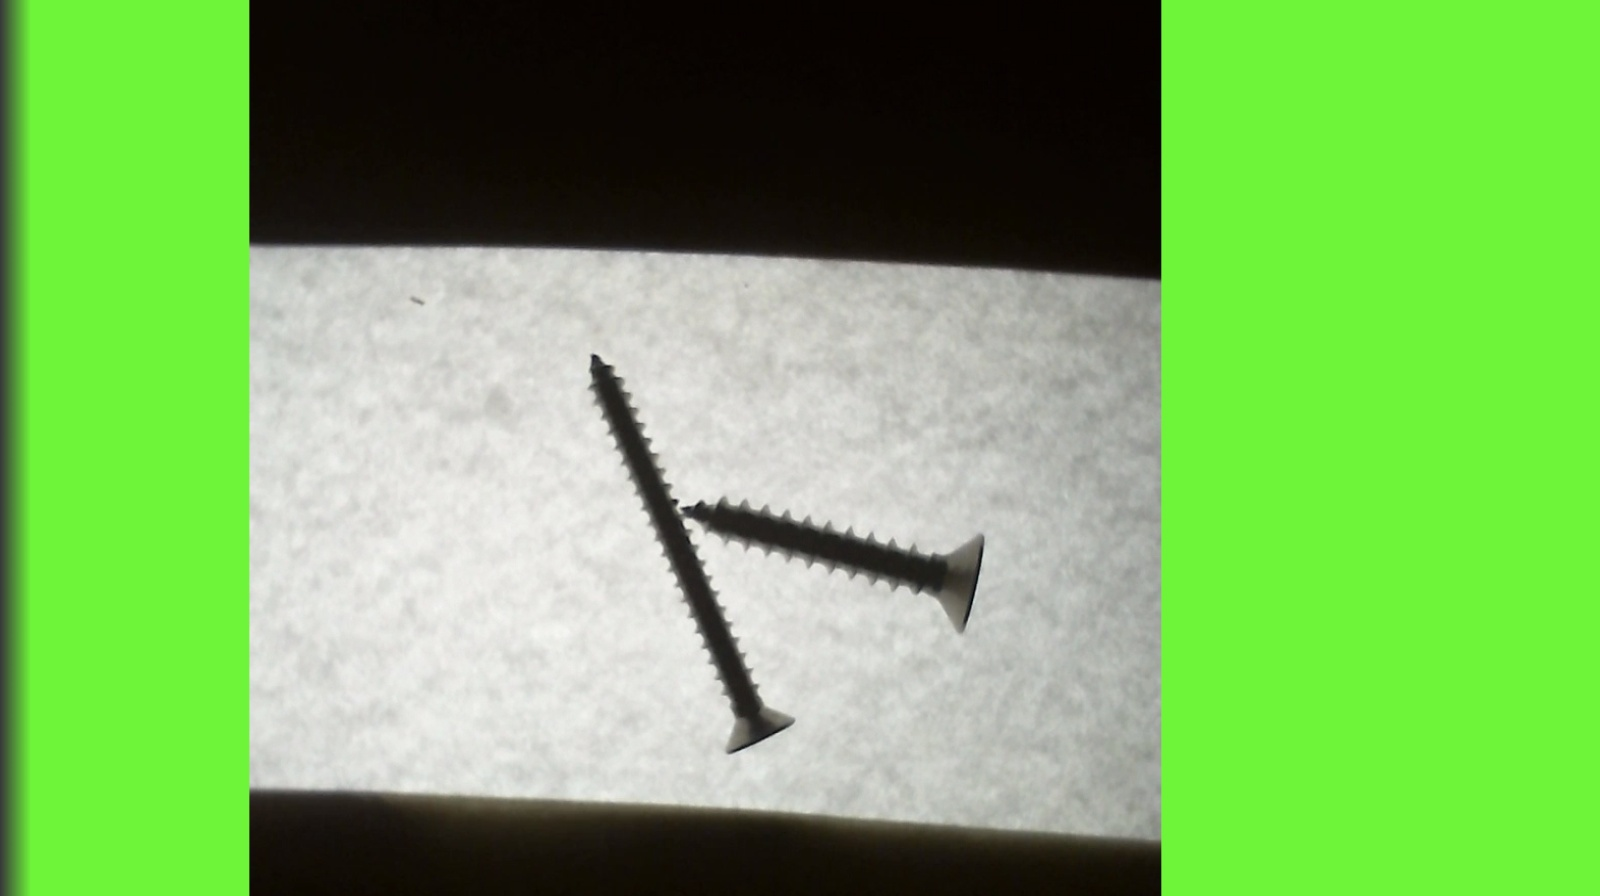S001: (675, 484, 990, 637)
S002: (584, 350, 799, 762)
